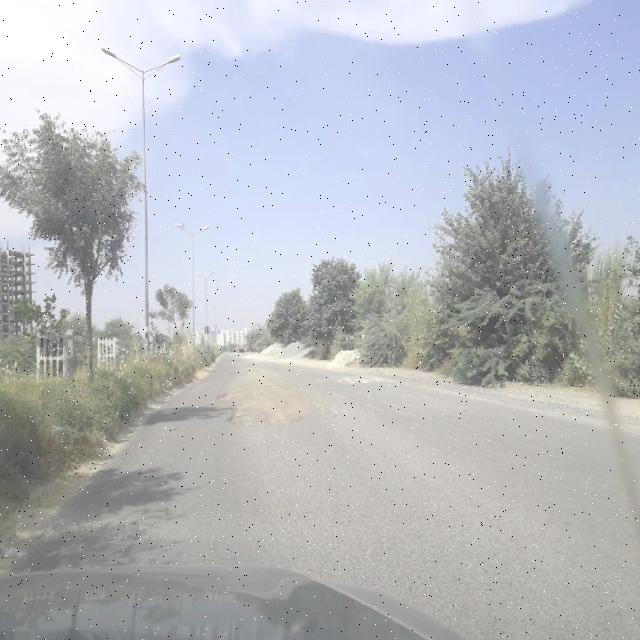D40: (217, 368, 348, 439)
